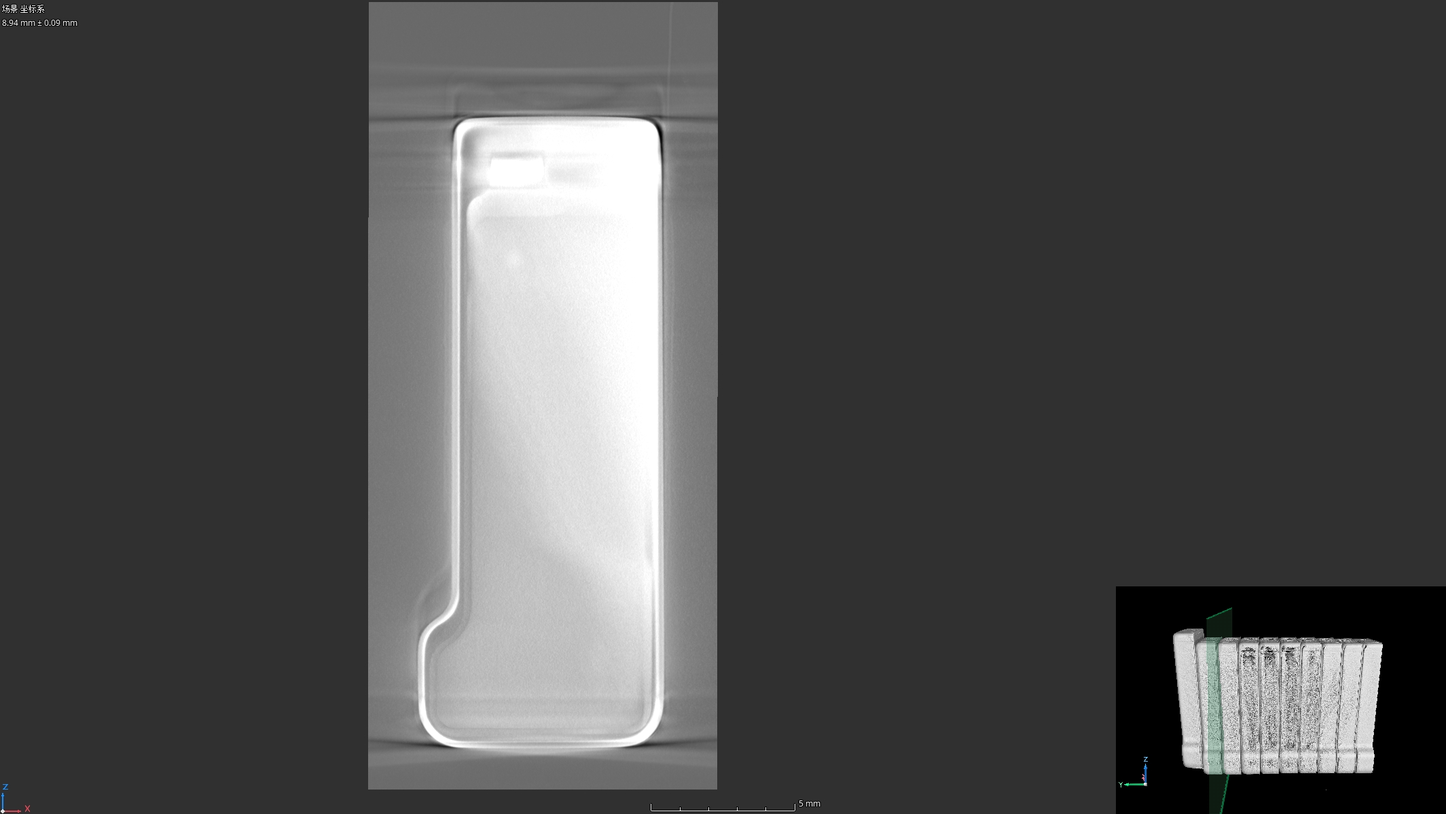light: (500, 246, 528, 275)
